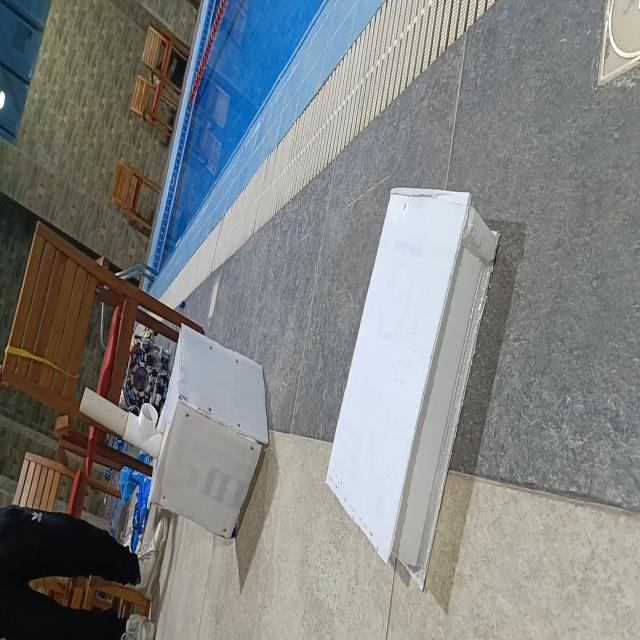Cube: (148, 322, 270, 540)
Cuboid: (324, 183, 499, 587)
